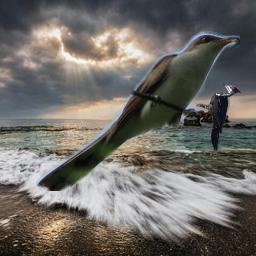Cuckoo: (36, 31, 240, 191)
Woodpecker: (196, 83, 242, 151)
